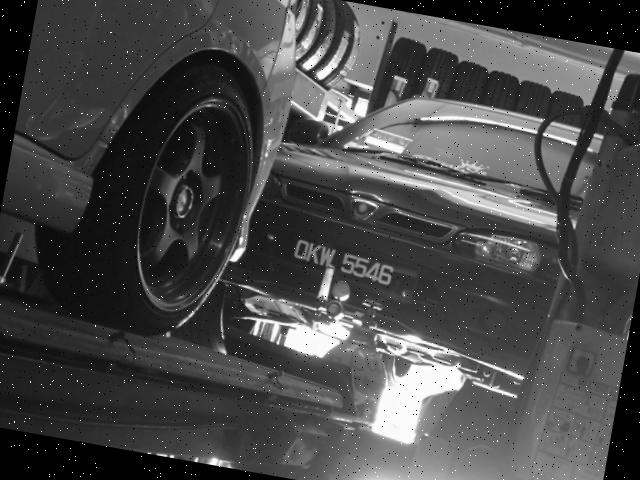License_Plate: (274, 236, 416, 295)
car: (242, 53, 624, 366)
